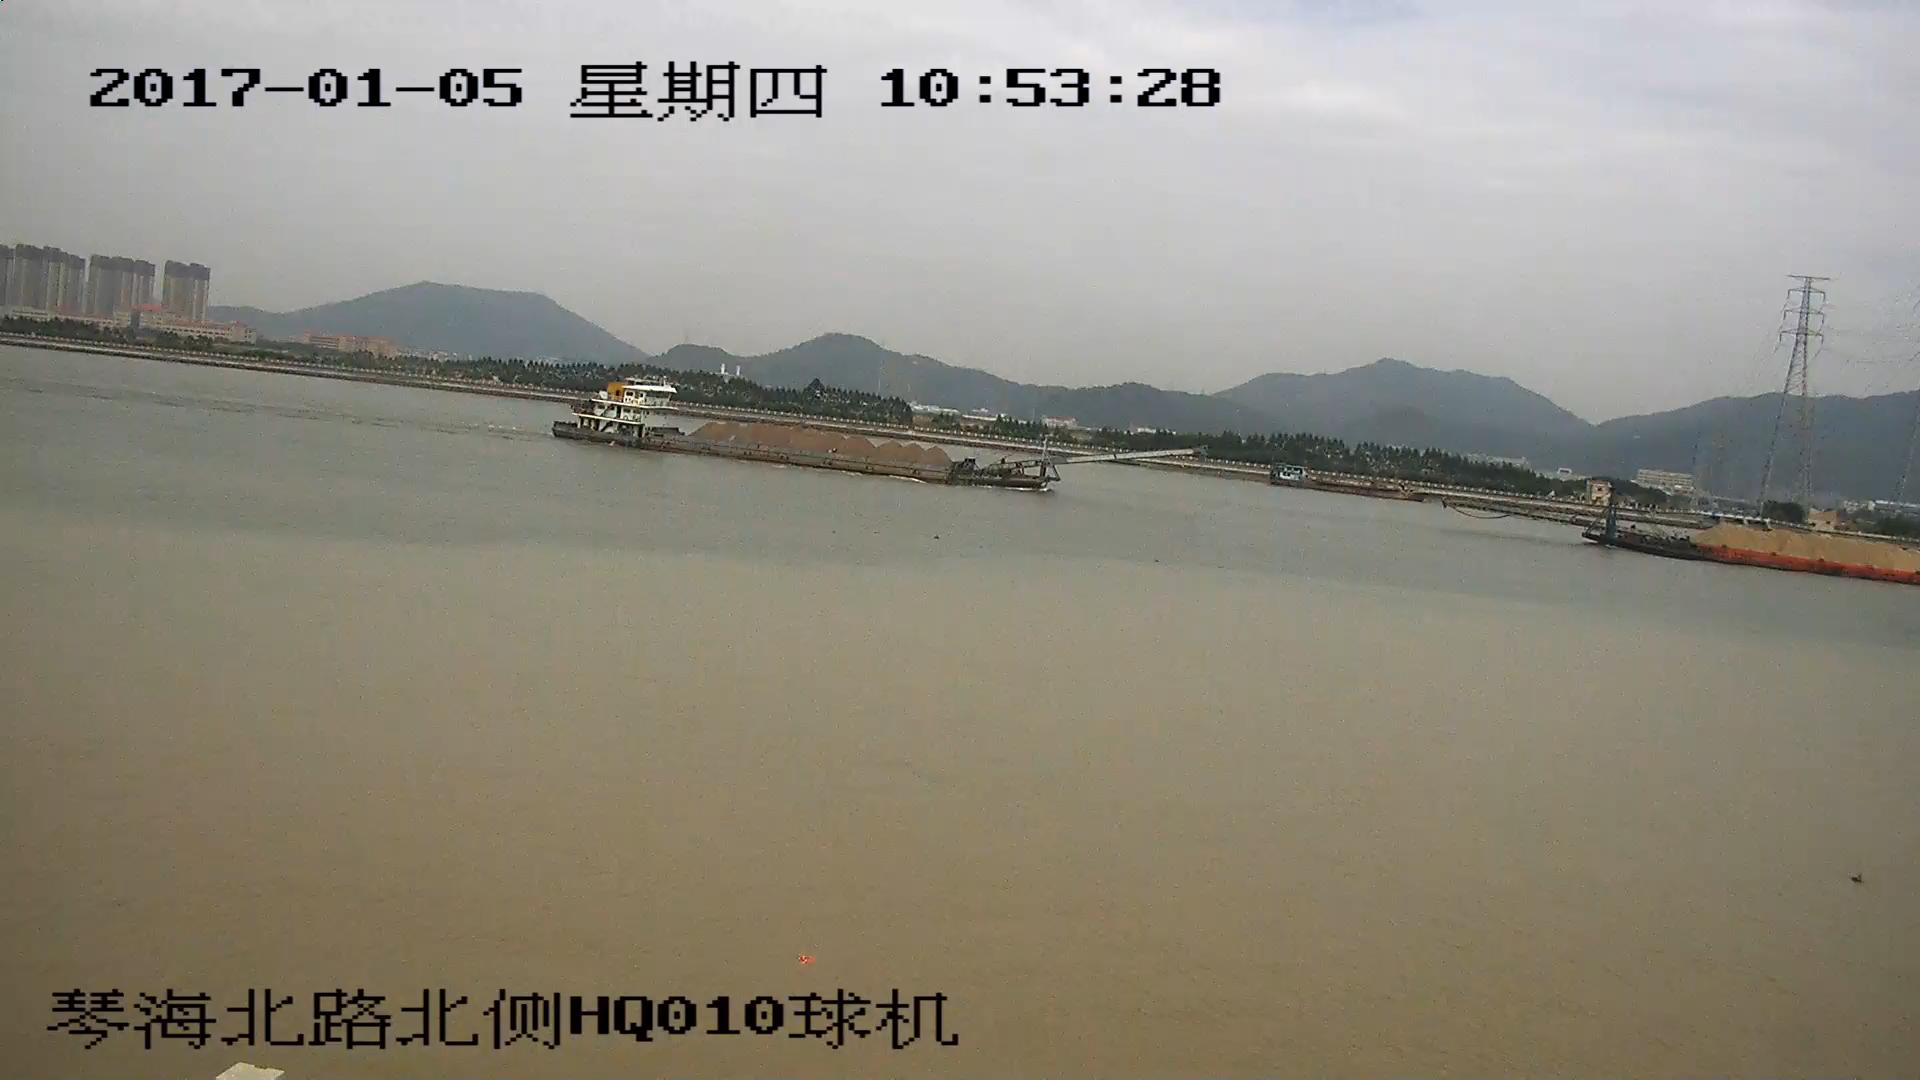ore carrier: (555, 380, 1192, 490), (1453, 472, 1920, 581)
